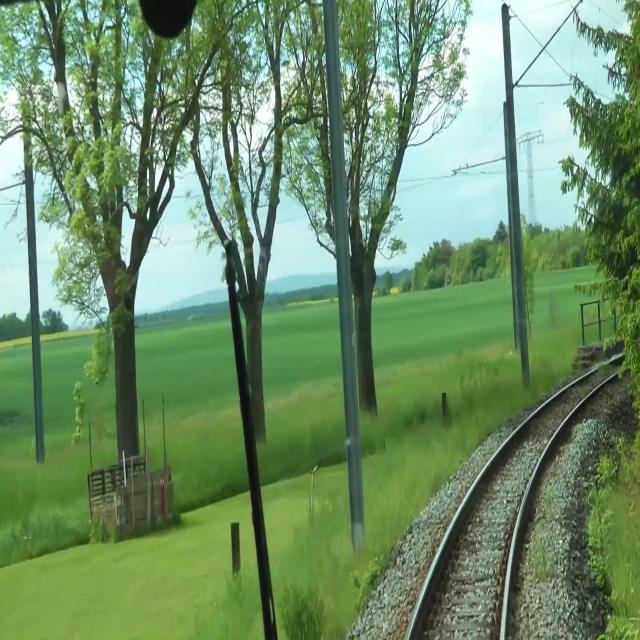rail-track: (410, 357, 625, 639)
